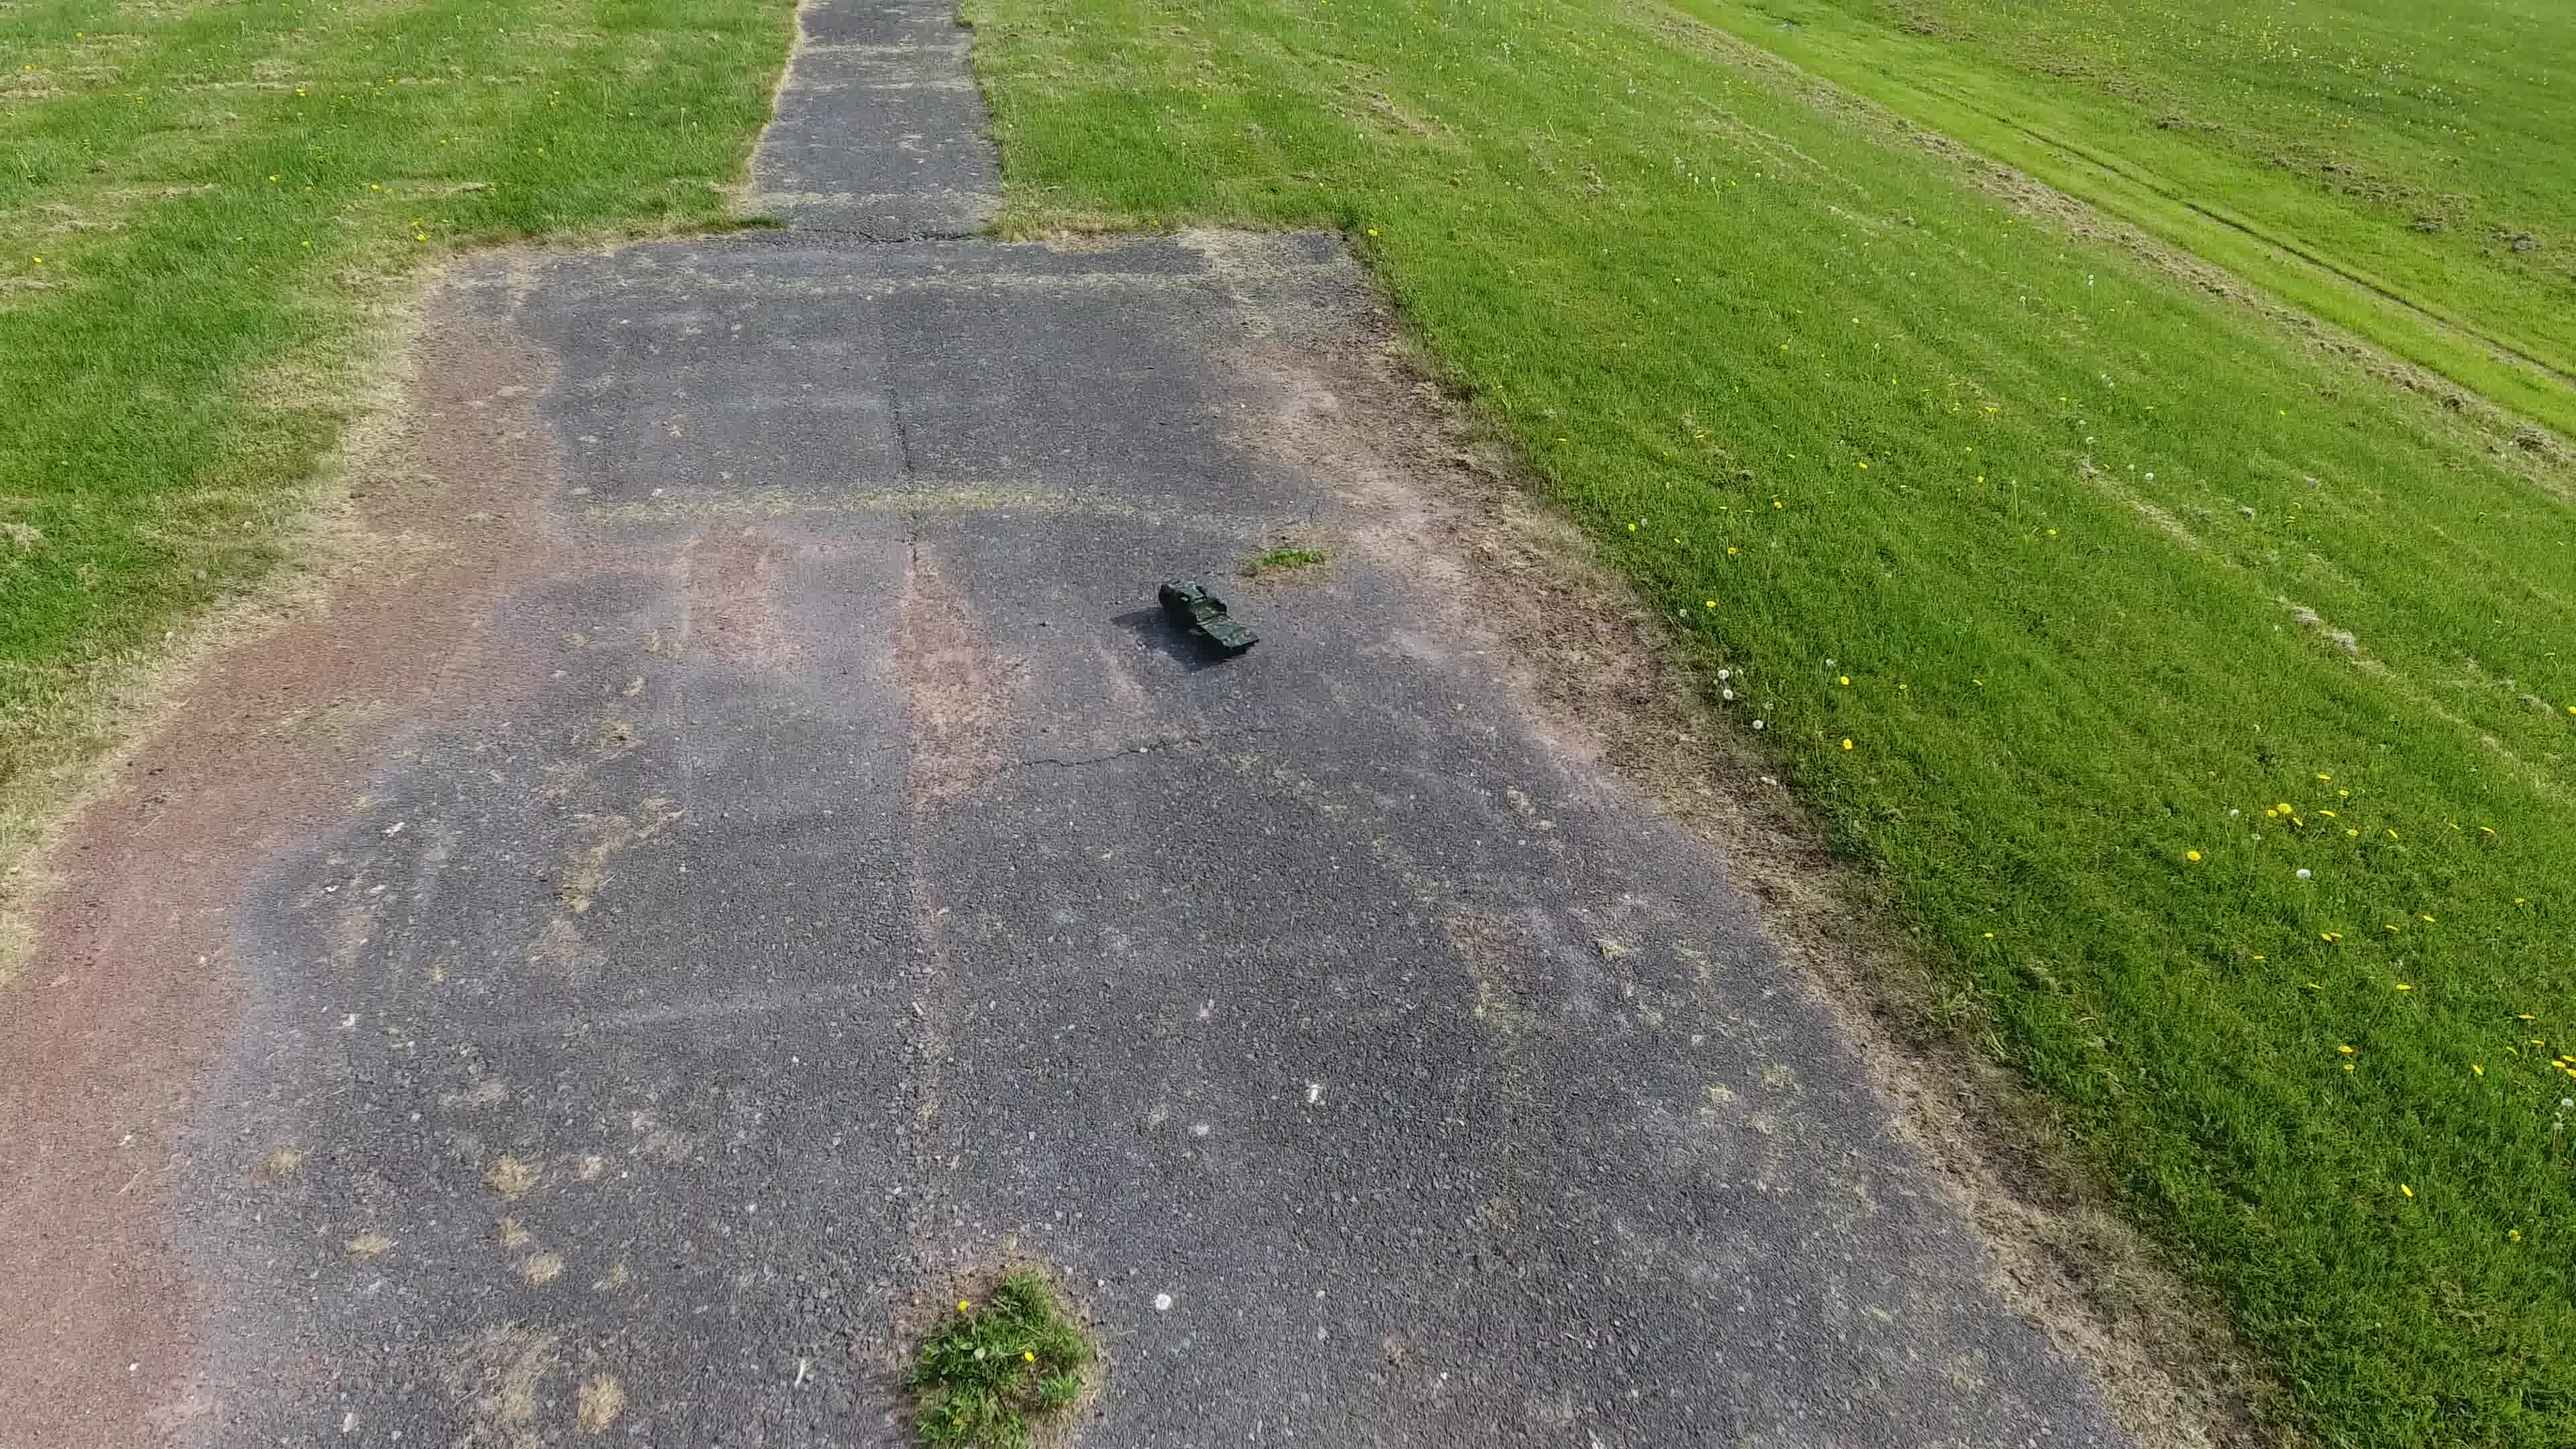transporter9: (1152, 577, 1260, 658)
